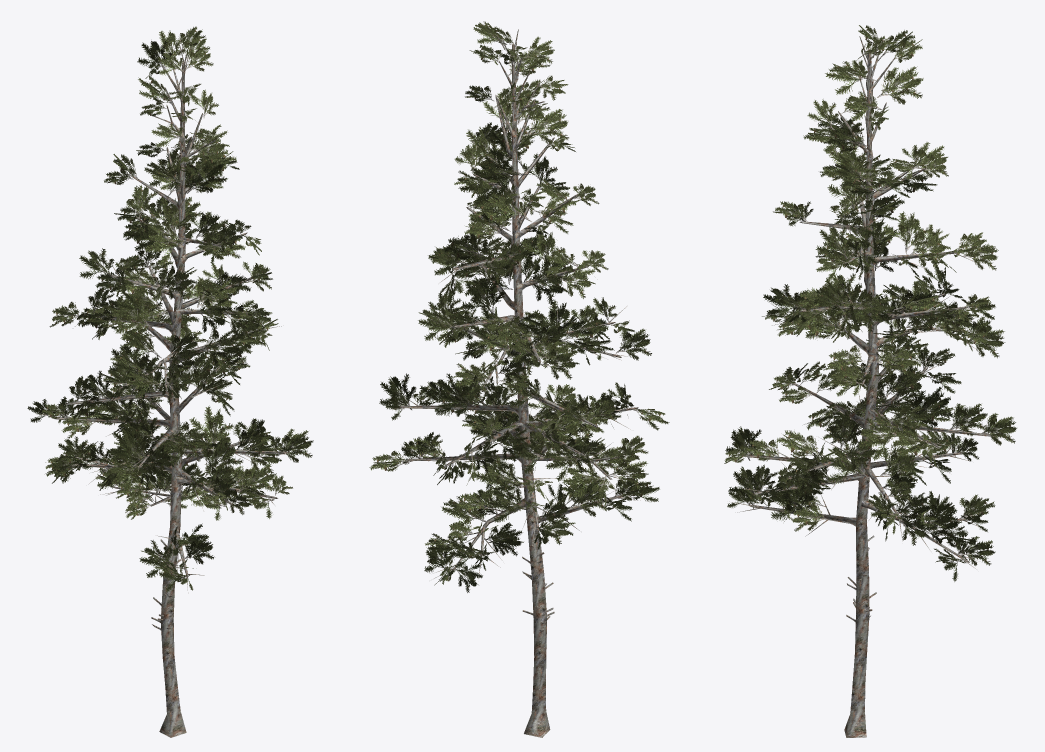
The model's file is Conifer_Low.fbx.
3 renders of one model, left to right at view 1: azimuth 30°, elevation 25°; view 2: azimuth 150°, elevation 25°; view 3: azimuth 270°, elevation 25°, orthographic. The views are drawn at different scales.
Visible parts, largest first — view 1: Conifer_Low; view 2: Conifer_Low; view 3: Conifer_Low.
Part boxes in pixels (x1,y1,x2,y2): Conifer_Low: (27, 26, 313, 737); Conifer_Low: (369, 21, 669, 737); Conifer_Low: (724, 25, 1016, 737).
Bounding box in the file's own units: 23.1 × 23.51 × 59.46.
Materials: 3 (3 with a texture image).
